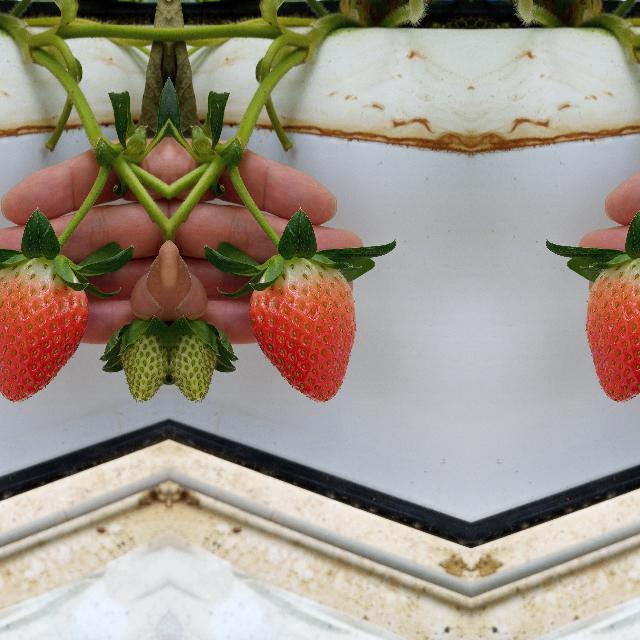Health_100: (248, 256, 356, 404), (0, 256, 88, 403), (584, 256, 640, 403)
